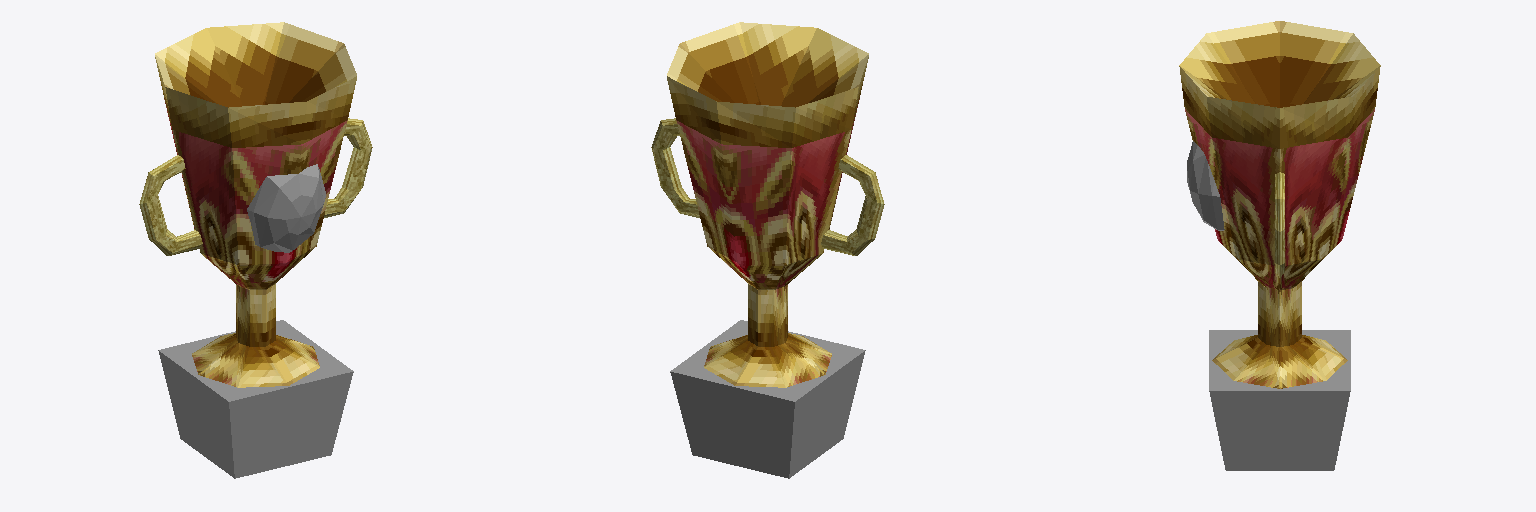
3 views of the same model, side by side, from view 1: azimuth 30°, elevation 25°; view 2: azimuth 150°, elevation 25°; view 3: azimuth 270°, elevation 25° (orthographic).
Visible parts, largest first — view 1: part2_texture2.001, part0_texture0.001, part4_texture4, part3_texture3, part1_texture1.001; view 2: part2_texture2.001, part0_texture0.001, part3_texture3, part1_texture1.001; view 3: part2_texture2.001, part0_texture0.001, part1_texture1.001, part4_texture4, part3_texture3.
Part boxes in pixels (left/top/right/bottom): part2_texture2.001: left=155, top=22, right=356, bottom=387; part0_texture0.001: left=158, top=350, right=353, bottom=478; part4_texture4: left=247, top=164, right=325, bottom=252; part3_texture3: left=139, top=118, right=372, bottom=255; part1_texture1.001: left=159, top=320, right=353, bottom=401; part2_texture2.001: left=667, top=22, right=868, bottom=387; part0_texture0.001: left=670, top=350, right=865, bottom=478; part3_texture3: left=651, top=118, right=884, bottom=255; part1_texture1.001: left=670, top=320, right=864, bottom=401; part2_texture2.001: left=1179, top=21, right=1380, bottom=388; part0_texture0.001: left=1209, top=391, right=1350, bottom=470; part1_texture1.001: left=1209, top=330, right=1350, bottom=390; part4_texture4: left=1187, top=141, right=1224, bottom=230; part3_texture3: left=1275, top=172, right=1284, bottom=277.
Size of the model in its own units: 0.3867 by 0.6055 by 0.2891.
Materials: 5 (2 with a texture image).